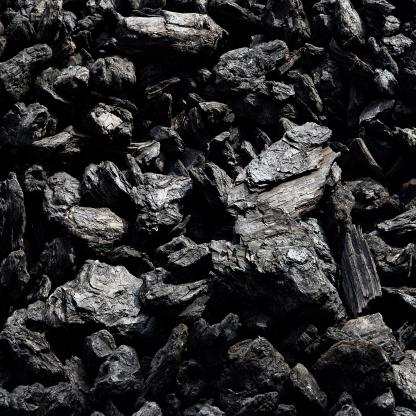Sedimentary_coal: (231, 196, 351, 330), (36, 255, 154, 344), (237, 118, 338, 218), (114, 10, 236, 57), (321, 300, 399, 373), (59, 197, 134, 261), (204, 38, 293, 89)
